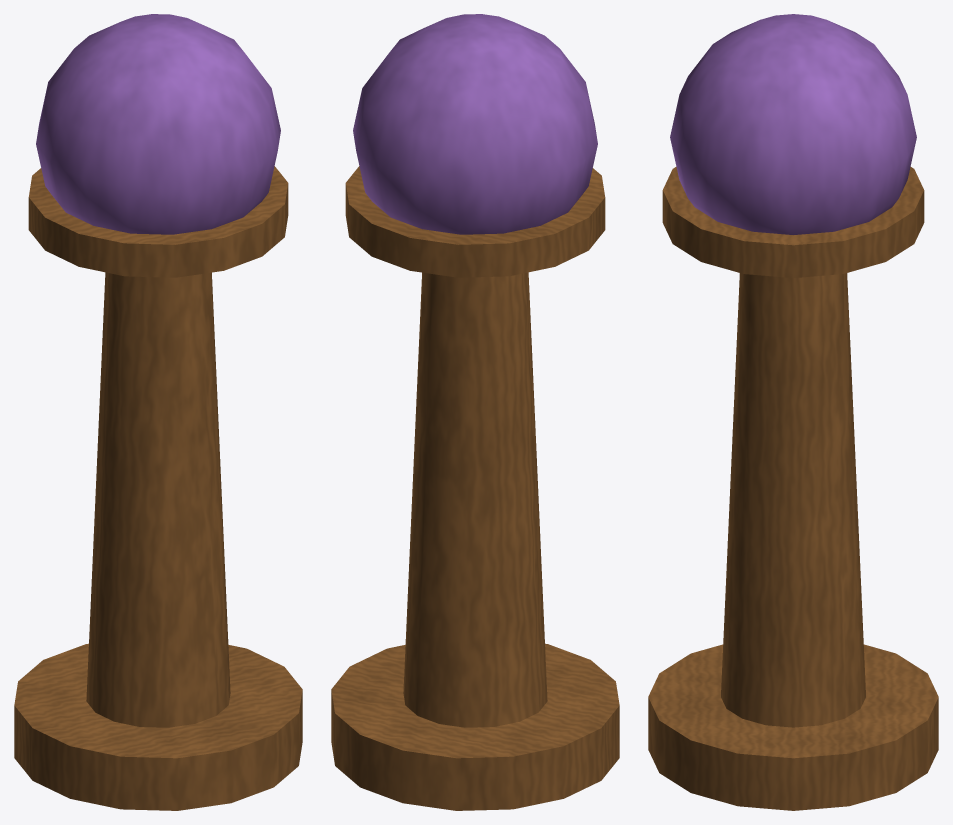
Rendered from Furn_CrystalStand.fbx.
3 renders of one model, left to right at view 1: azimuth 30°, elevation 25°; view 2: azimuth 150°, elevation 25°; view 3: azimuth 270°, elevation 25°, orthographic.
Parts seen in each view (by area): view 1: Furn_CrystalStand_Mesh; view 2: Furn_CrystalStand_Mesh; view 3: Furn_CrystalStand_Mesh.
Boxes of the visible parts, x1,y1,x2,y2 form: Furn_CrystalStand_Mesh: [14, 14, 302, 810]; Furn_CrystalStand_Mesh: [331, 14, 619, 810]; Furn_CrystalStand_Mesh: [648, 14, 938, 810].
Size of the model in its own units: 0.4 by 1.1 by 0.4.
Materials: 2 (2 with a texture image).
